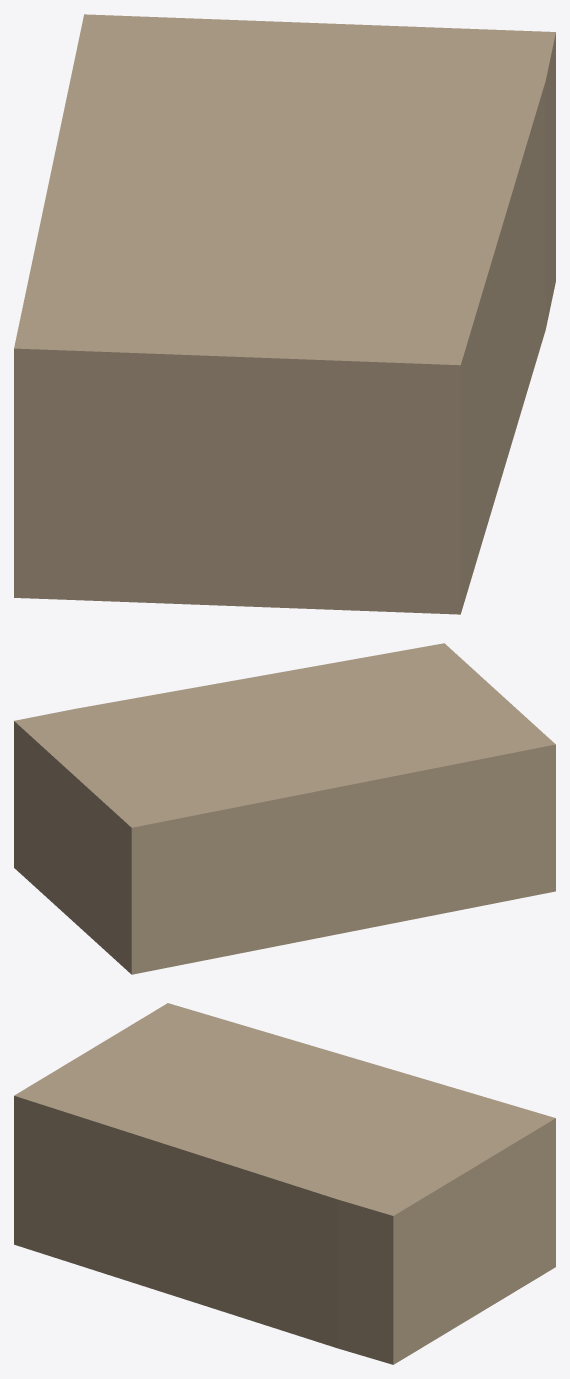
File: bld_940536852.dae
3 views of the same model, one above another, from view 1: azimuth 30°, elevation 25°; view 2: azimuth 150°, elevation 25°; view 3: azimuth 270°, elevation 25° (orthographic). The views are drawn at different scales.
Parts seen in each view (by area): view 1: Advance Digital Graphics; view 2: Advance Digital Graphics; view 3: Advance Digital Graphics.
Part boxes in pixels (left/top/right/bottom): Advance Digital Graphics: left=14, top=14, right=555, bottom=614; Advance Digital Graphics: left=14, top=643, right=555, bottom=974; Advance Digital Graphics: left=14, top=1003, right=555, bottom=1364.
Bounding box in the file's own units: 24.54 × 26.38 × 8.
